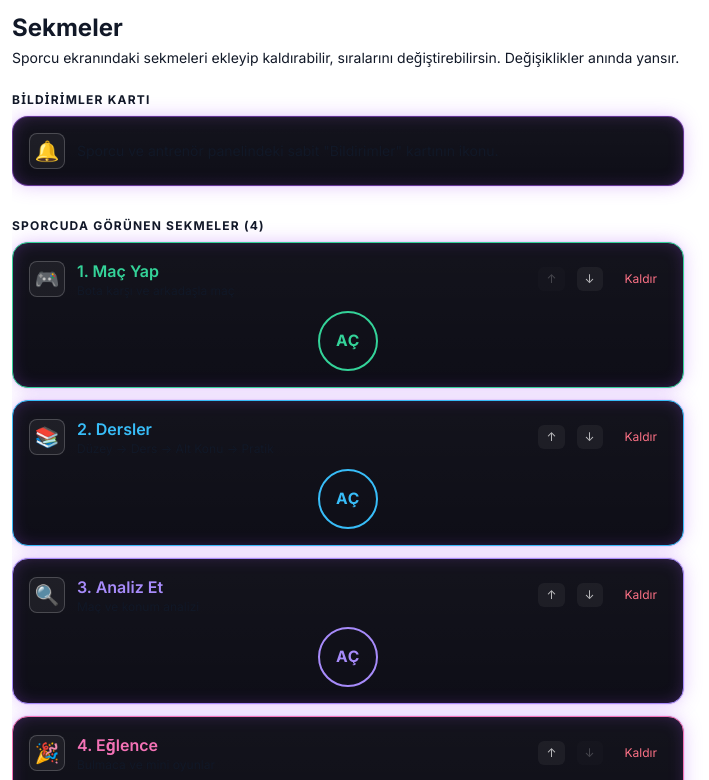
Scenario: Admin Sekmeler — akordiyon › AKORDİYON: ikinci kart açılınca ilki kapanır
The width and height of the screenshot is (709, 780).
Step 1. Click the button with aria-label "Dersler sekmesini aç" → (348, 499), box [318,469,378,529]
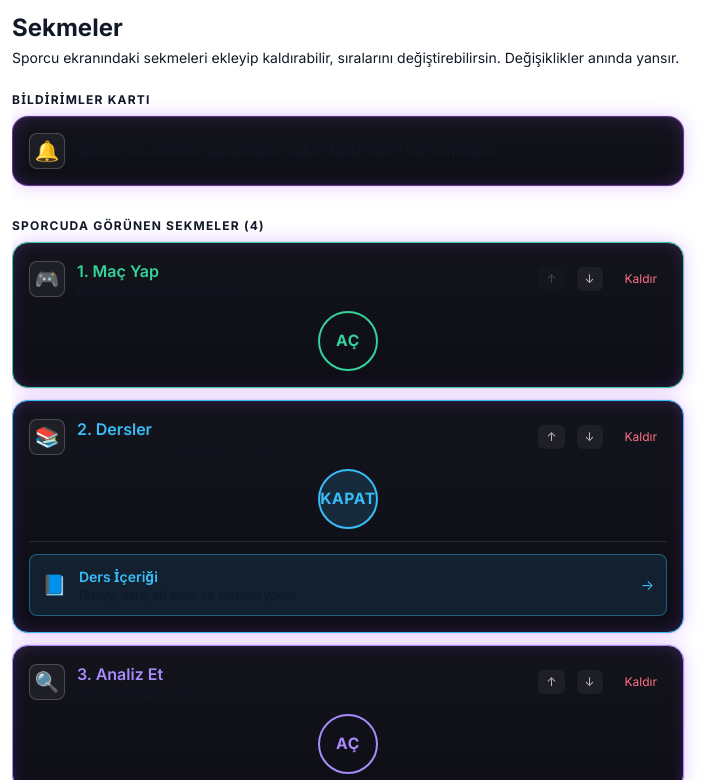
Step 2. Click the button with aria-label "Maç Yap sekmesini aç" → (348, 341), box [318,311,378,371]
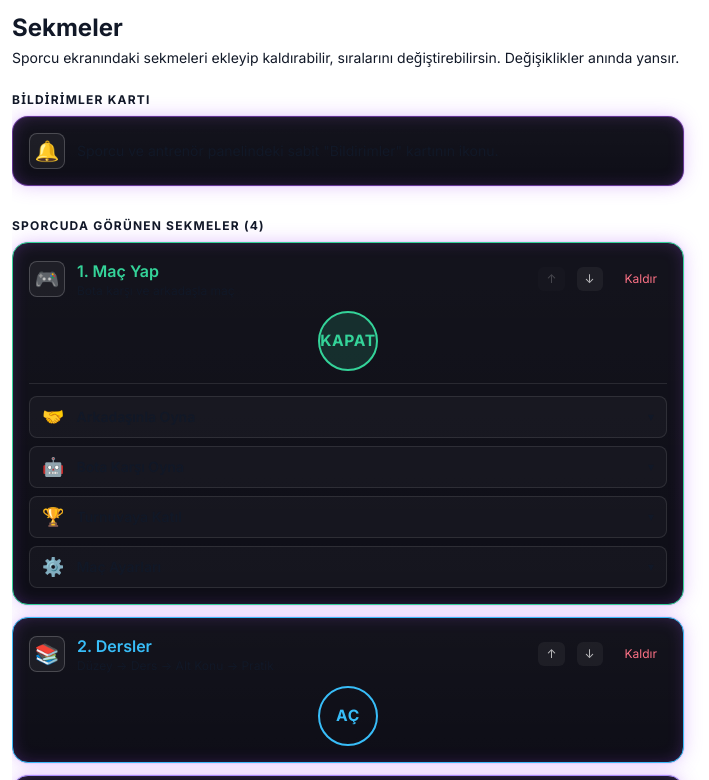
Expected: the link "Ders İçeriği" is gone
